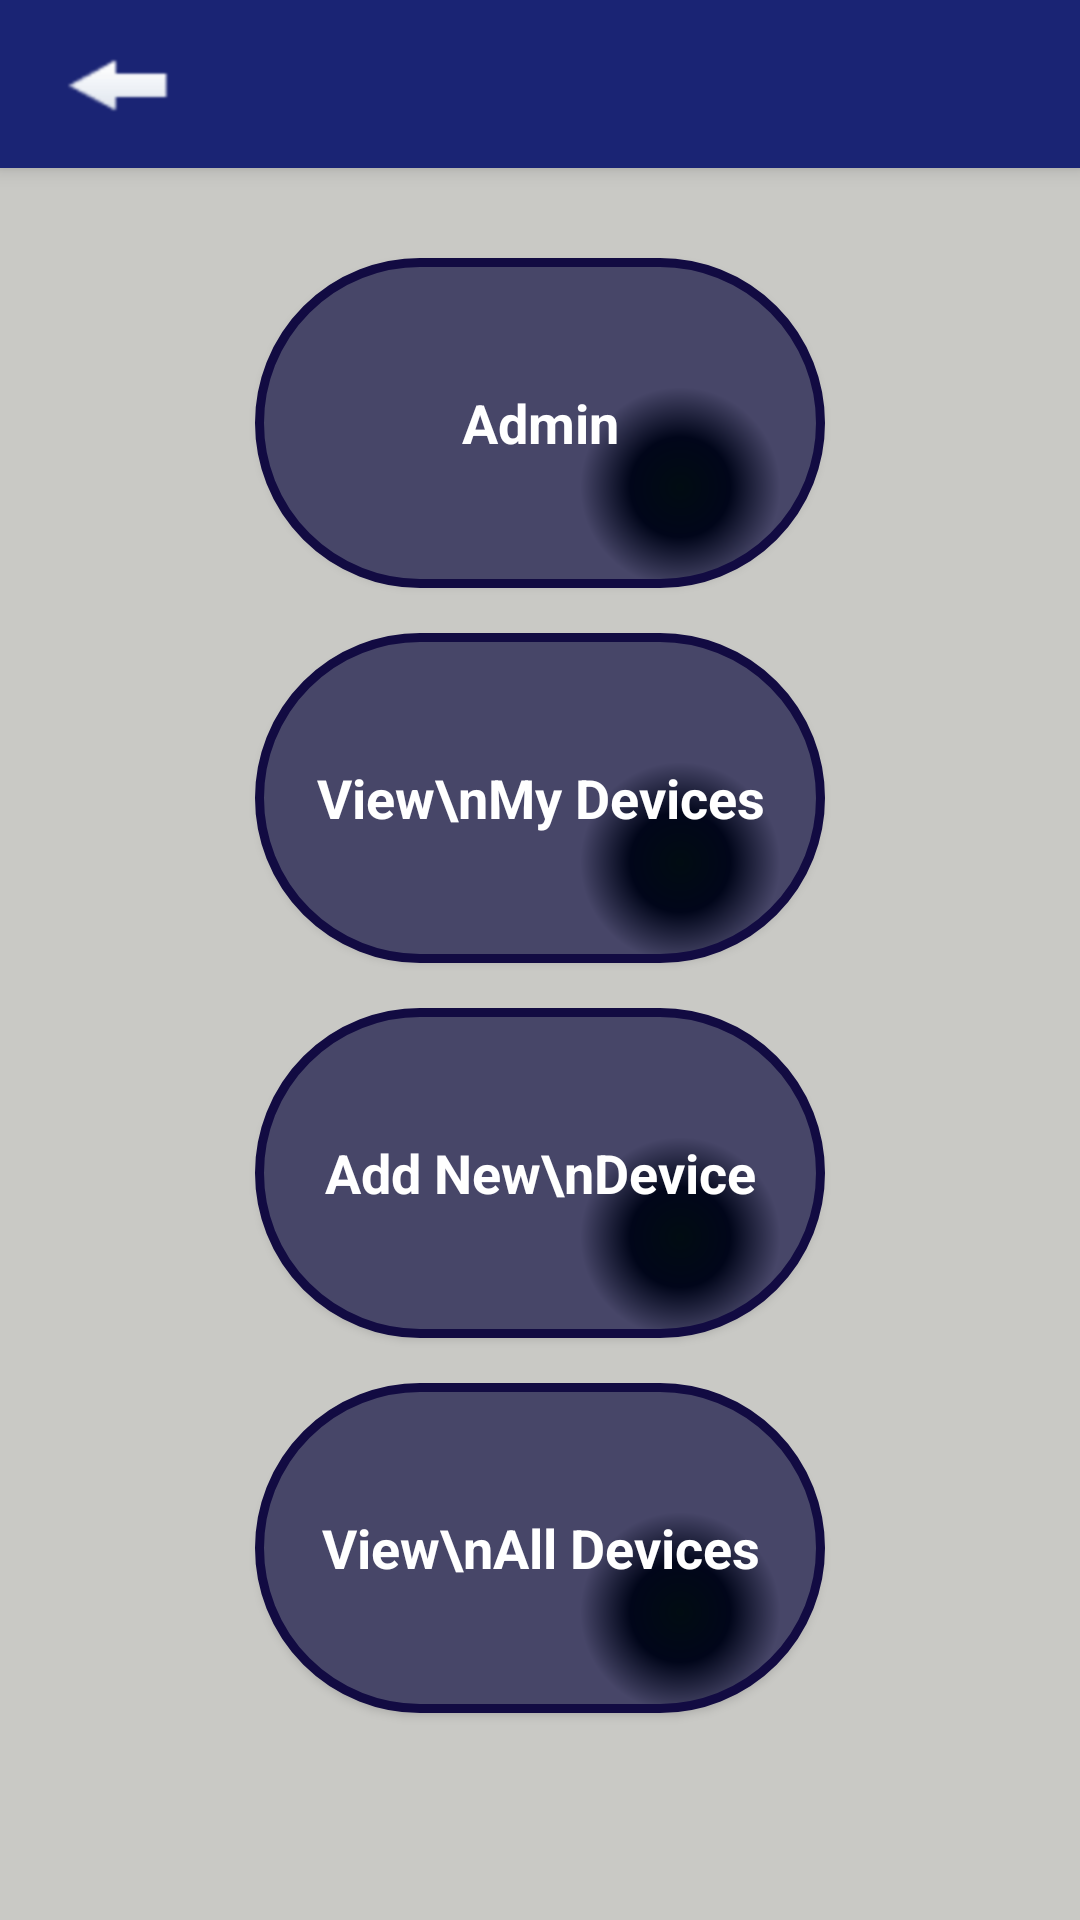

Named icons in this screenshot (1080 x 1920) and their bounding boxes, {"left": x1, "top": y1, "right": x2, "bottom": y2}:
backbutton: {"left": 68, "top": 60, "right": 168, "bottom": 111}
